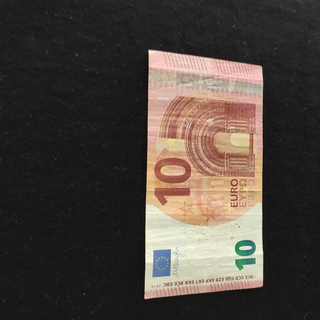10EUROFront: (143, 48, 263, 299)
